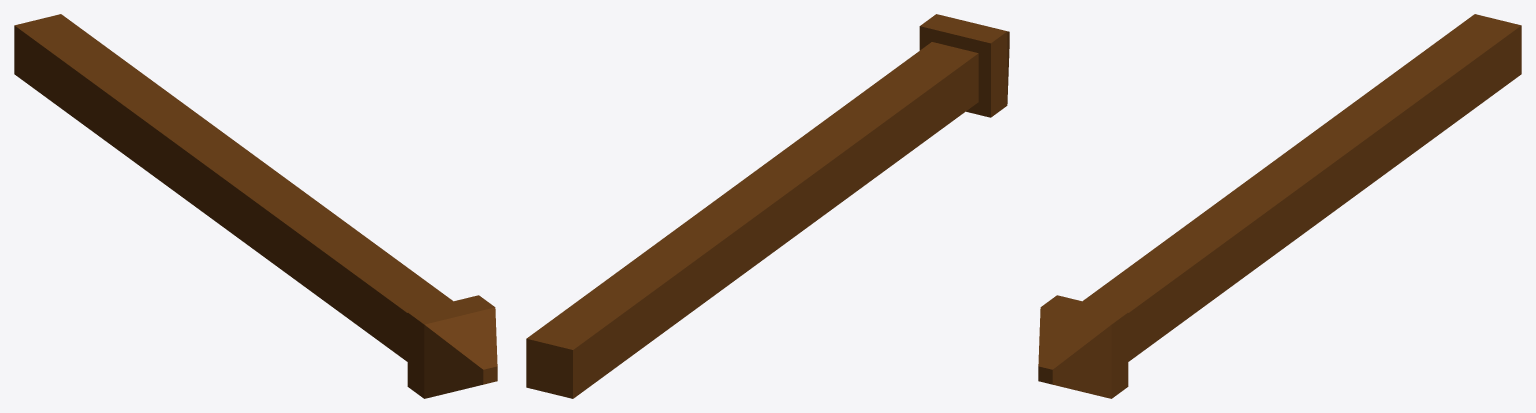
File: ArcherArrow.fbx
3 renders of one model, left to right at view 1: azimuth 30°, elevation 25°; view 2: azimuth 150°, elevation 25°; view 3: azimuth 330°, elevation 25°, orthographic.
Visible parts, largest first — view 1: Arrow; view 2: Arrow; view 3: Arrow.
Boxes of the visible parts, x1,y1,x2,y2 form: Arrow: [14, 14, 497, 398]; Arrow: [526, 14, 1009, 398]; Arrow: [1038, 14, 1521, 398].
Size of the model in its own units: 9.73 by 9.73 by 107.
